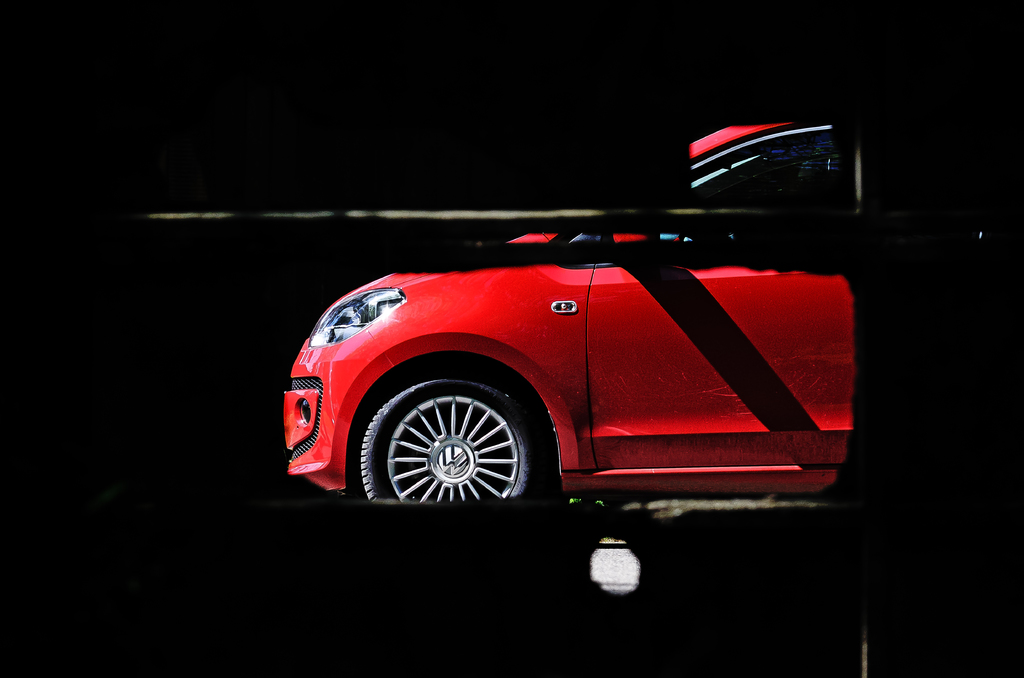mobil: (251, 145, 894, 503)
